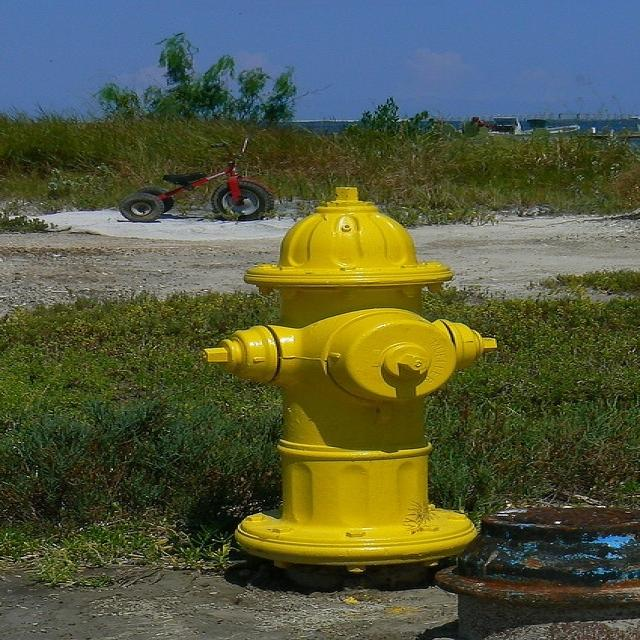fire_hydrant: (208, 174, 520, 589)
